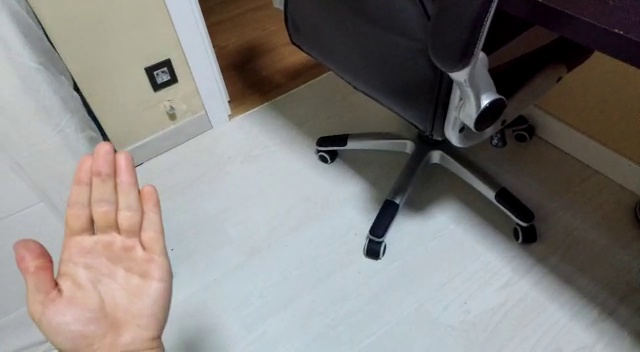Palm: (7, 138, 175, 351)
